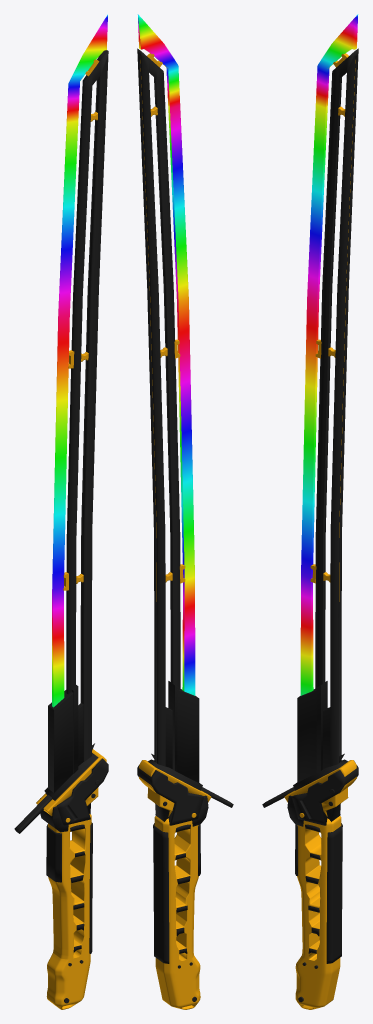
The model's file is neonkatana.glb.
3 renders of one model, left to right at view 1: azimuth 30°, elevation 25°; view 2: azimuth 210°, elevation 25°; view 3: azimuth 330°, elevation 25°, orthographic. The views are drawn at different scales.
Visible parts, largest first — view 1: NeonKatana; view 2: NeonKatana; view 3: NeonKatana.
Part boxes in pixels (x1,y1,x2,y2): NeonKatana: (14,14,108,1009); NeonKatana: (137,14,233,1009); NeonKatana: (262,14,358,1009).
Bounding box in the file's own units: 0.1388 × 1.41 × 0.0403.
Materials: 4 (1 with a texture image).
